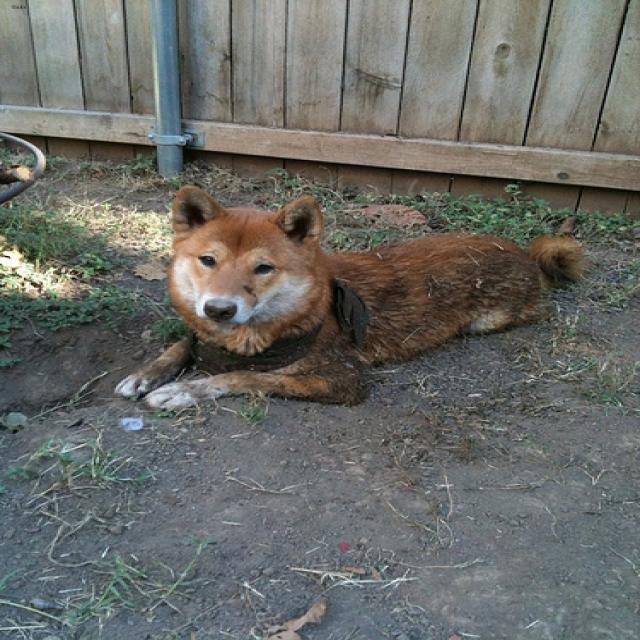dog-shiba_inu: (99, 175, 602, 420)
